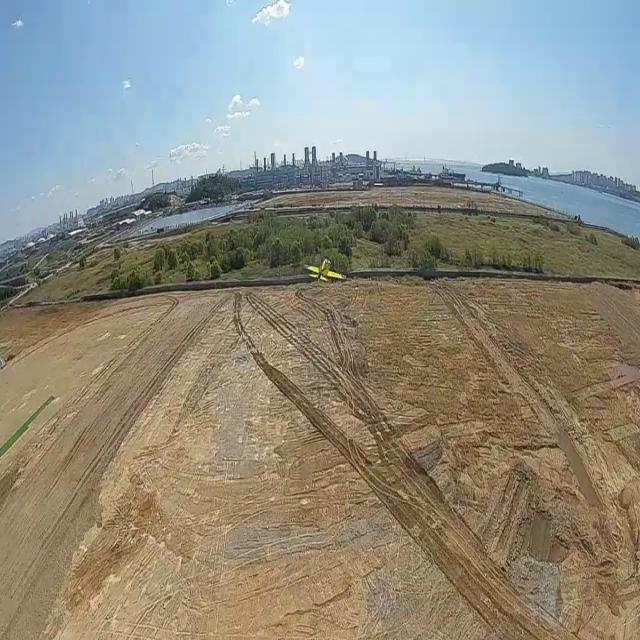iha: (300, 244, 347, 280), (14, 22, 20, 25)
